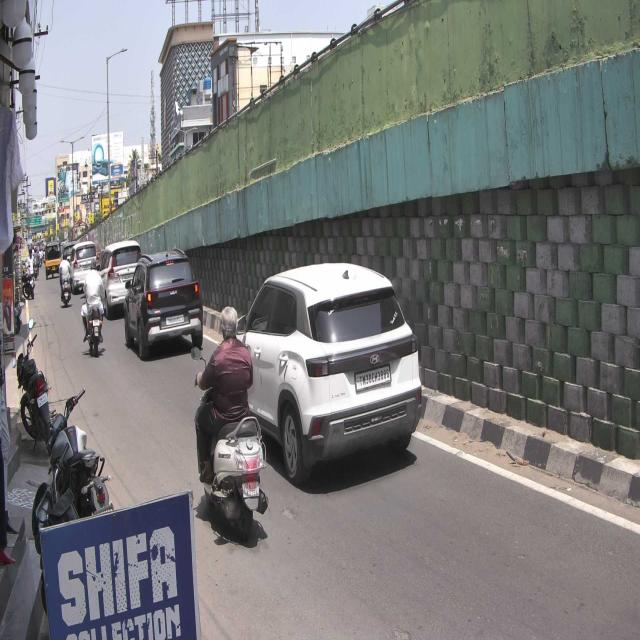single_rider: (192, 305, 268, 542)
